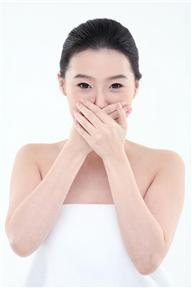face: (67, 50, 132, 144)
